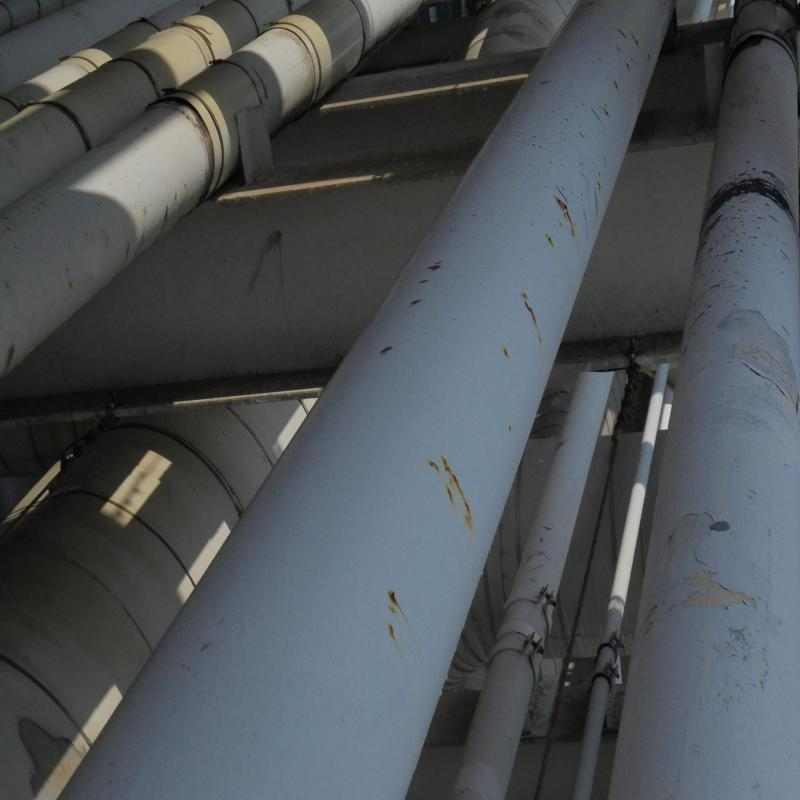corrosion: (295, 427, 396, 757)
